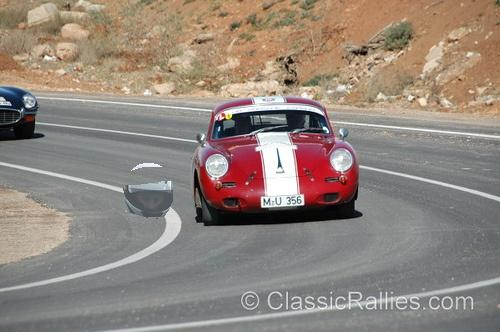tampered: (124, 164, 173, 219)
